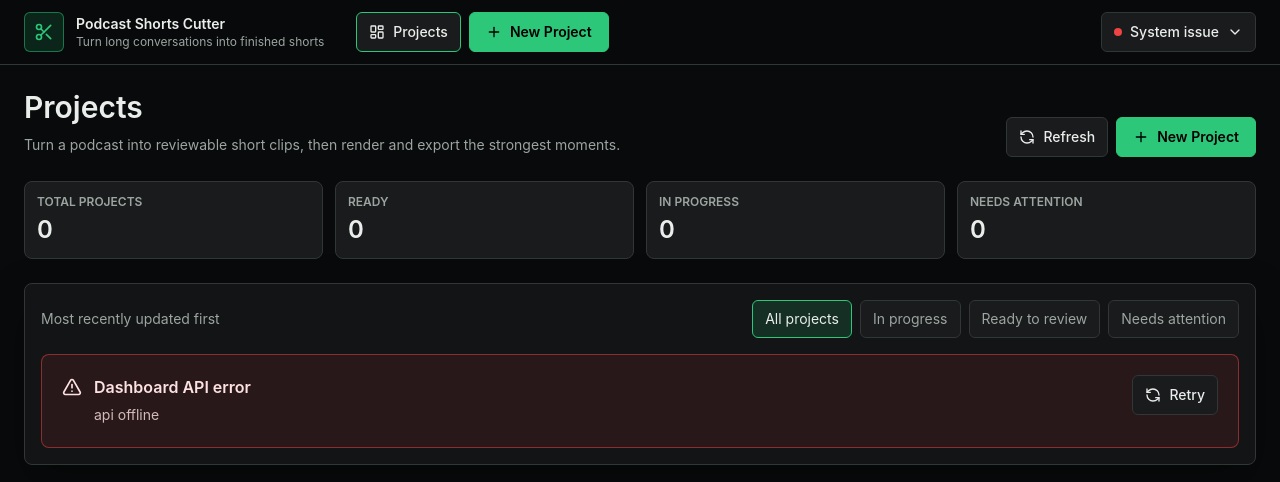
Test: Product UI › shows backend unavailable state
expect the heading "Dashboard API error" is shown: met, box [94, 377, 251, 397]
Click the button "System issue". click: {"x": 1179, "y": 32}
box: [1101, 12, 1256, 52]
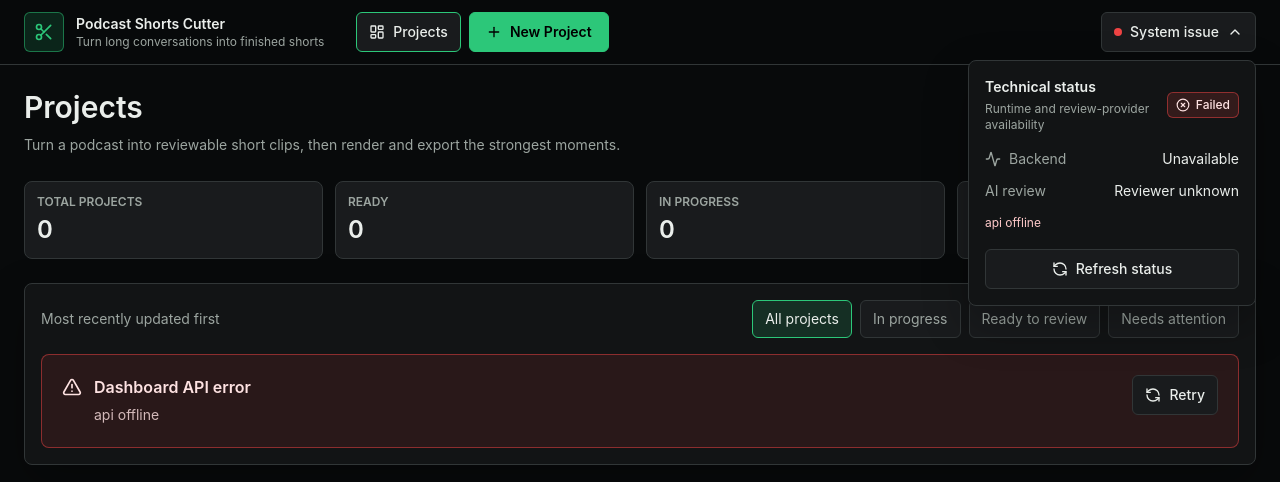
expect the text "Unavailable" is shown: met, box [1162, 149, 1239, 169]
